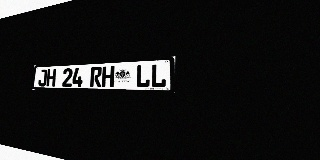plate: (32, 56, 175, 93)
